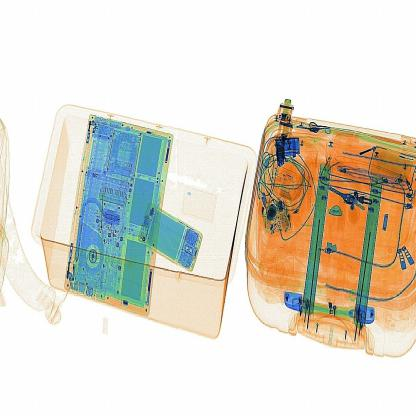pliers: (93, 181, 116, 250)
